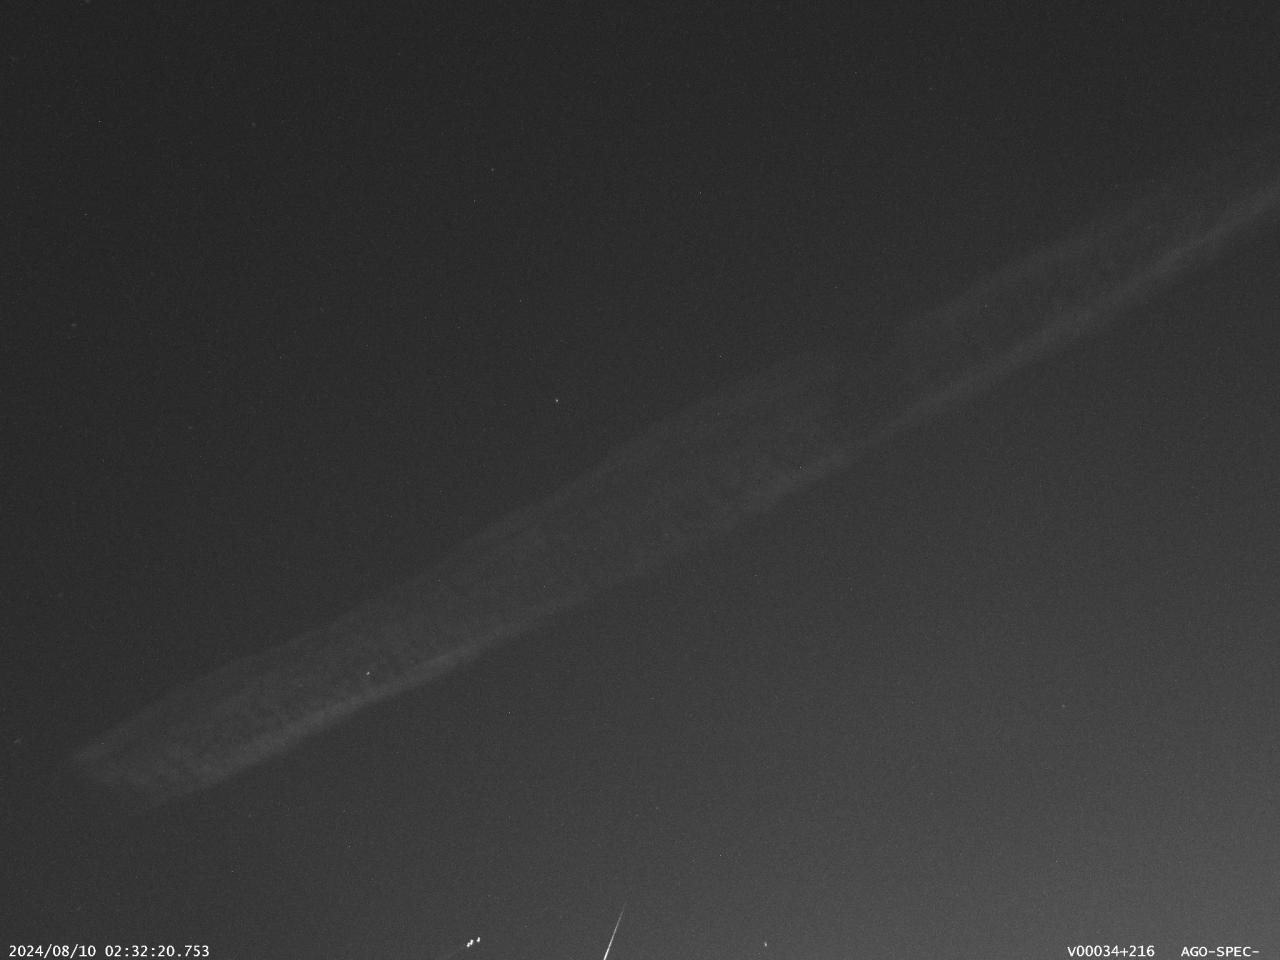Meteor: (590, 903, 629, 959)
